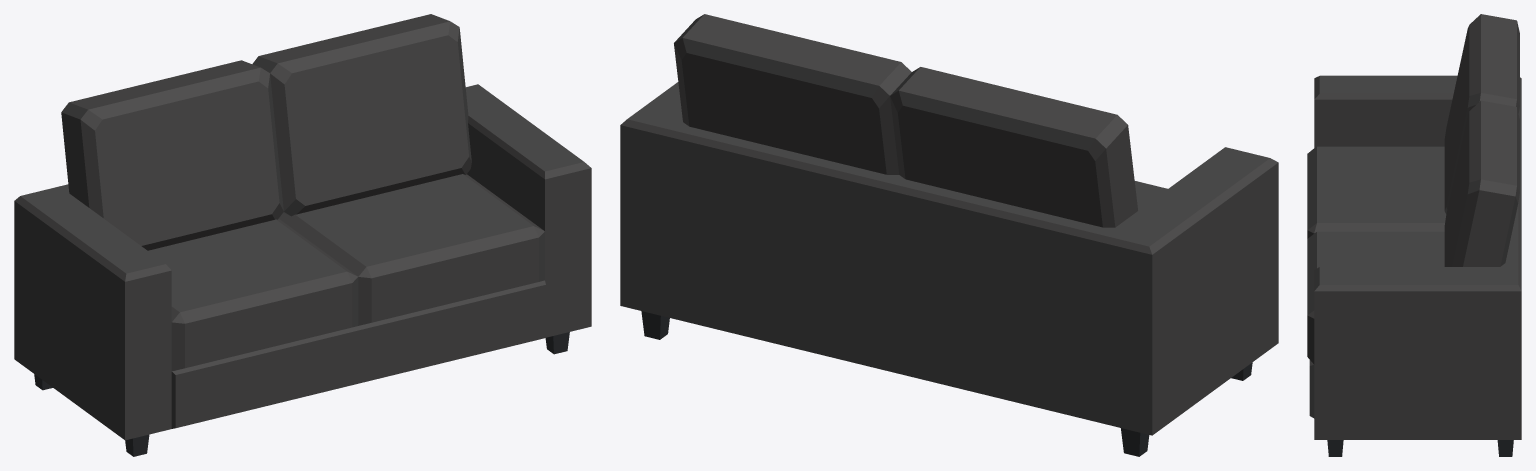
File: Sofa.obj
The picture shows the model from 3 angles, left to right: view 1: azimuth 30°, elevation 25°; view 2: azimuth 150°, elevation 25°; view 3: azimuth 270°, elevation 25°; orthographic projection. The views are drawn at different scales.
Visible parts, largest first — view 1: Sofa; view 2: Sofa; view 3: Sofa.
Part boxes in pixels (x1=…): Sofa: x1=14, y1=14, x2=591, y2=456; Sofa: x1=620, y1=14, x2=1278, y2=456; Sofa: x1=1307, y1=14, x2=1521, y2=456.
Bounding box in the file's own units: 2.1 × 1.2 × 0.8917.
1 material, 1 textured.
